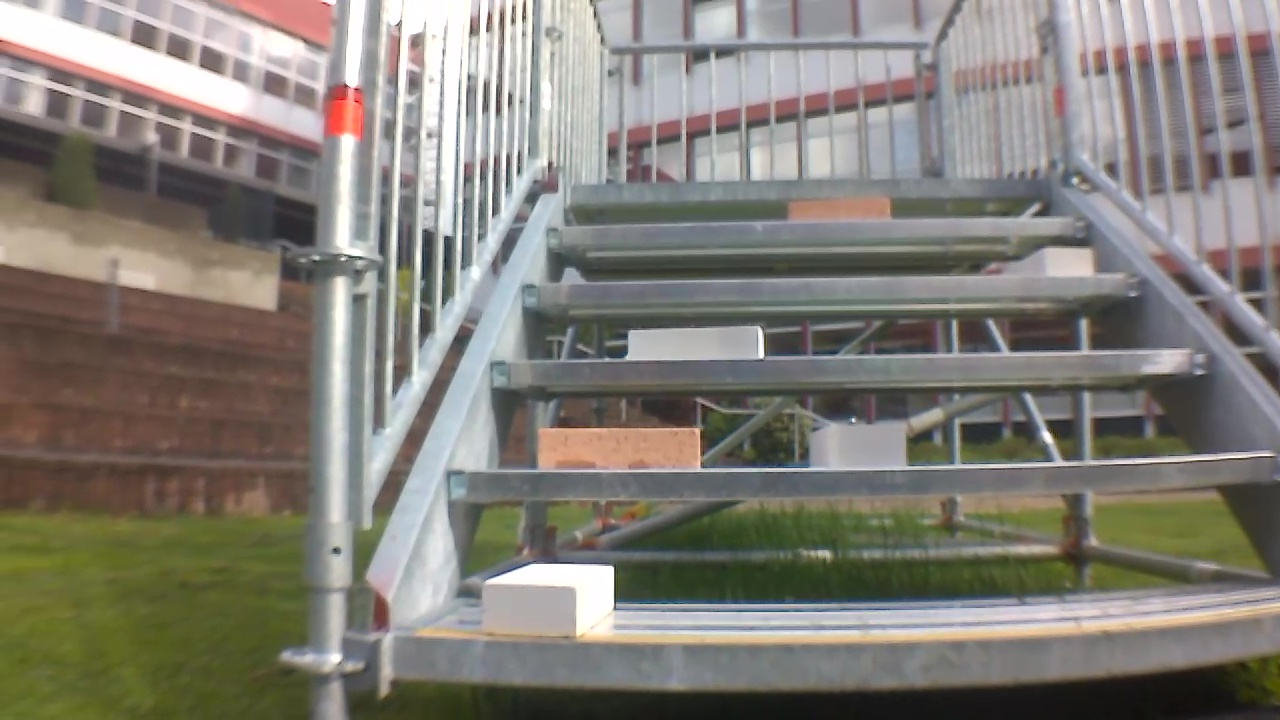brick: (481, 562, 618, 637), (541, 429, 701, 473), (624, 324, 764, 360), (805, 423, 908, 468), (788, 198, 895, 223), (1004, 252, 1095, 279)
edge: (393, 610, 1280, 688), (445, 454, 1277, 504), (541, 217, 1092, 248), (485, 355, 1207, 378), (519, 280, 1151, 302), (569, 180, 1042, 200)
stairs: (301, 0, 1280, 714)
steps: (372, 177, 1280, 707)
